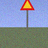sign: (20, 0, 34, 35)
